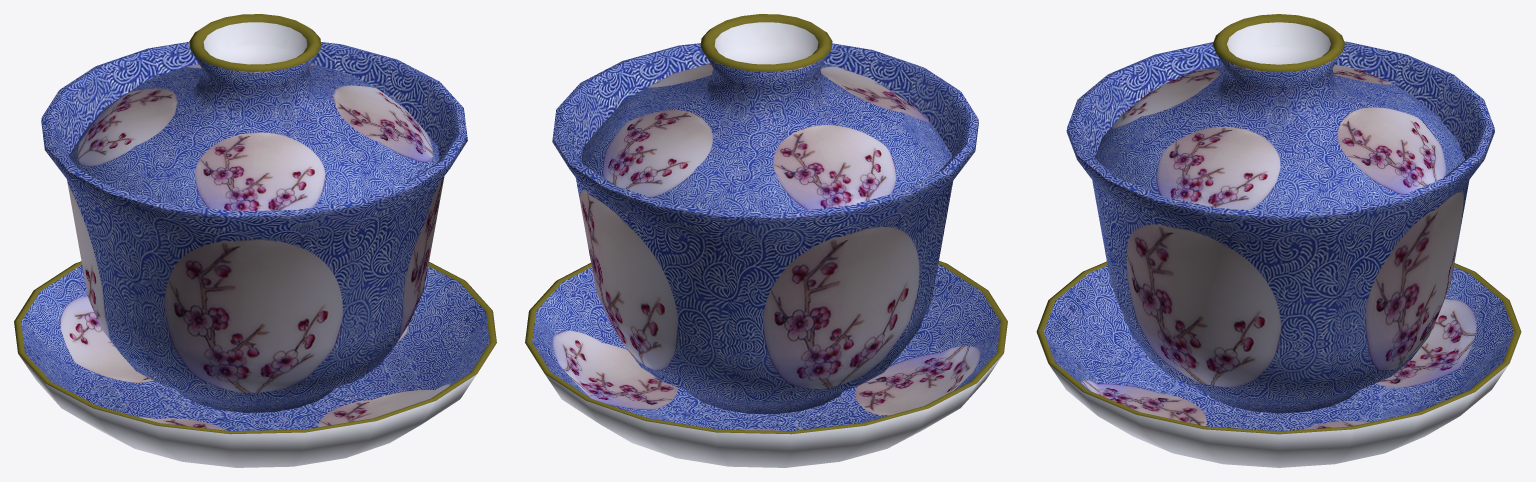
Rendered from wan08_02.FBX.
3 views of the same model, side by side, from view 1: azimuth 30°, elevation 25°; view 2: azimuth 150°, elevation 25°; view 3: azimuth 270°, elevation 25° (orthographic).
Visible parts, largest first — view 1: pCylinder014, pCylinder015, pCylinder016; view 2: pCylinder014, pCylinder015, pCylinder016; view 3: pCylinder014, pCylinder015, pCylinder016.
Boxes of the visible parts, bbox=[...] form: pCylinder014: bbox=[41, 41, 467, 412]; pCylinder015: bbox=[68, 14, 439, 211]; pCylinder016: bbox=[14, 261, 496, 467]; pCylinder014: bbox=[552, 43, 978, 414]; pCylinder015: bbox=[581, 14, 951, 212]; pCylinder016: bbox=[525, 261, 1007, 467]; pCylinder014: bbox=[1066, 41, 1494, 413]; pCylinder015: bbox=[1095, 14, 1464, 212]; pCylinder016: bbox=[1036, 261, 1521, 467].
Size of the model in its own units: 119 by 101 by 119.
